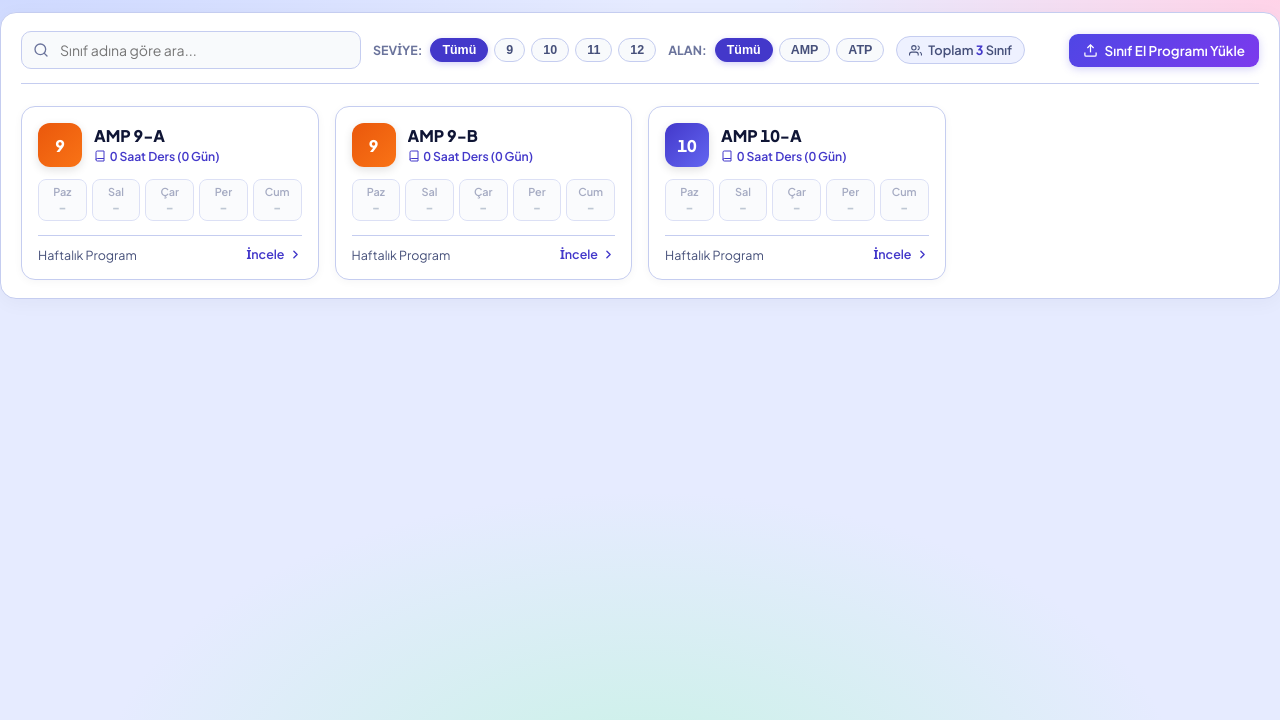
Test: Modal Navigation and Schedule Features › ClassSchedulesSection allows cycling between classes via next button
This screenshot has width=1280, height=720.
Note: Click on AMP 9-A card to open modal
Click the element titled "AMP 9-A haftalık ders programını görüntüle" at [170, 193], box [21,106,318,280]
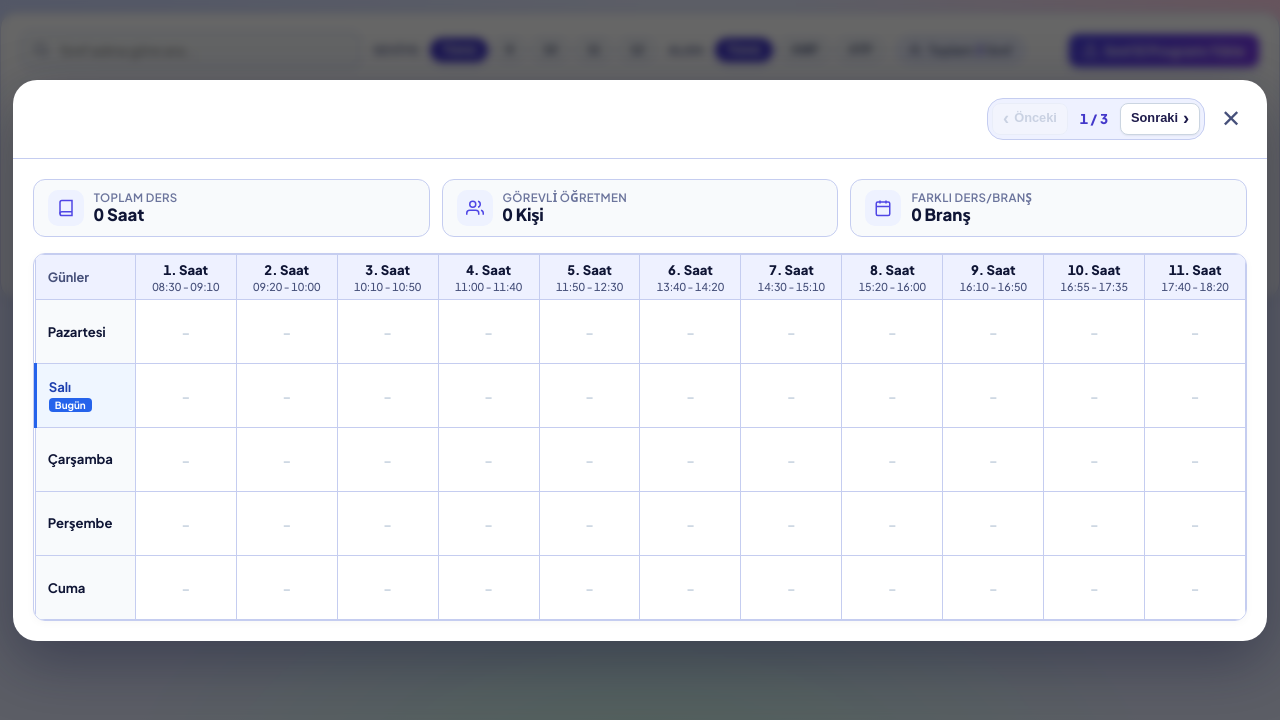
Now the text "1 / 3" is shown, box [1080,110,1108,127]
Note: Click next button
Click the button "Sonraki ›" at [1160, 118], box [1120,102,1200,134]
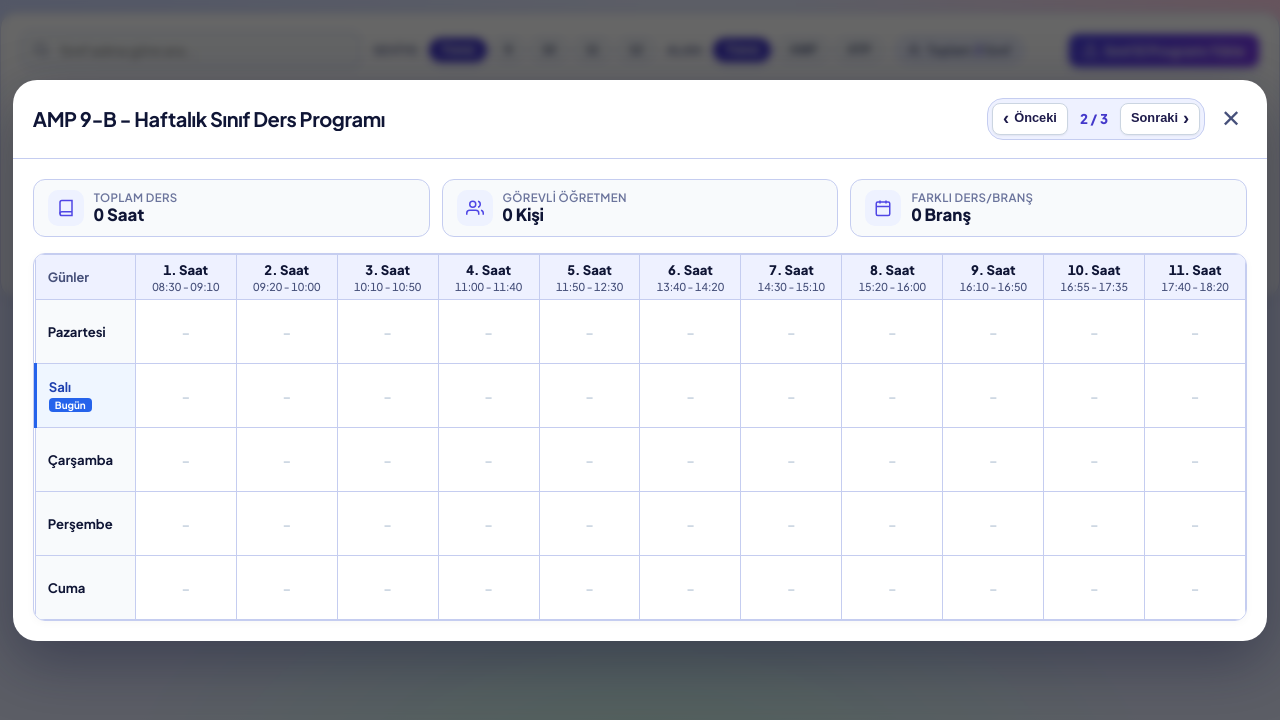
Now the heading "AMP 9-B - Haftalık Sınıf Ders Programı" is shown, box [33,106,385,131]
Now the text "2 / 3" is shown, box [1080,110,1108,127]
